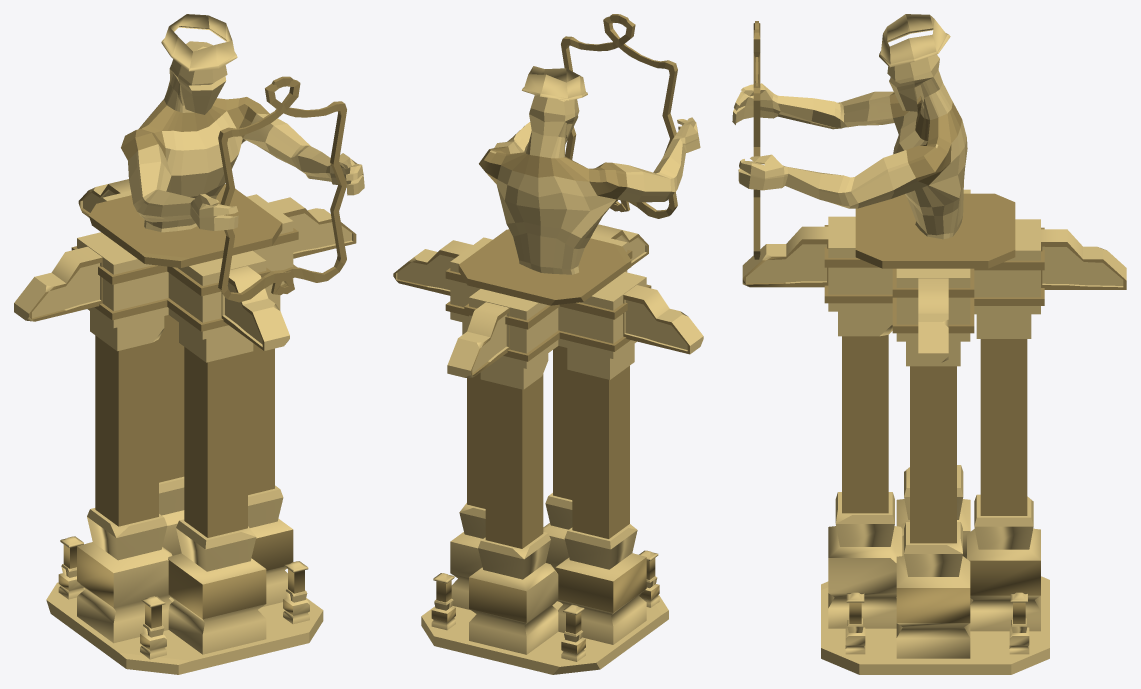
File: movement piller 1.fbx
3 renders of one model, left to right at view 1: azimuth 30°, elevation 25°; view 2: azimuth 150°, elevation 25°; view 3: azimuth 270°, elevation 25°, orthographic. The views are drawn at different scales.
Visible parts, largest first — view 1: pCube17.021; view 2: pCube17.021; view 3: pCube17.021.
Boxes of the visible parts, bbox=[...] form: pCube17.021: bbox=[14, 14, 364, 674]; pCube17.021: bbox=[393, 14, 703, 674]; pCube17.021: bbox=[732, 14, 1126, 674].
Bounding box in the file's own units: 210 × 370 × 218.
